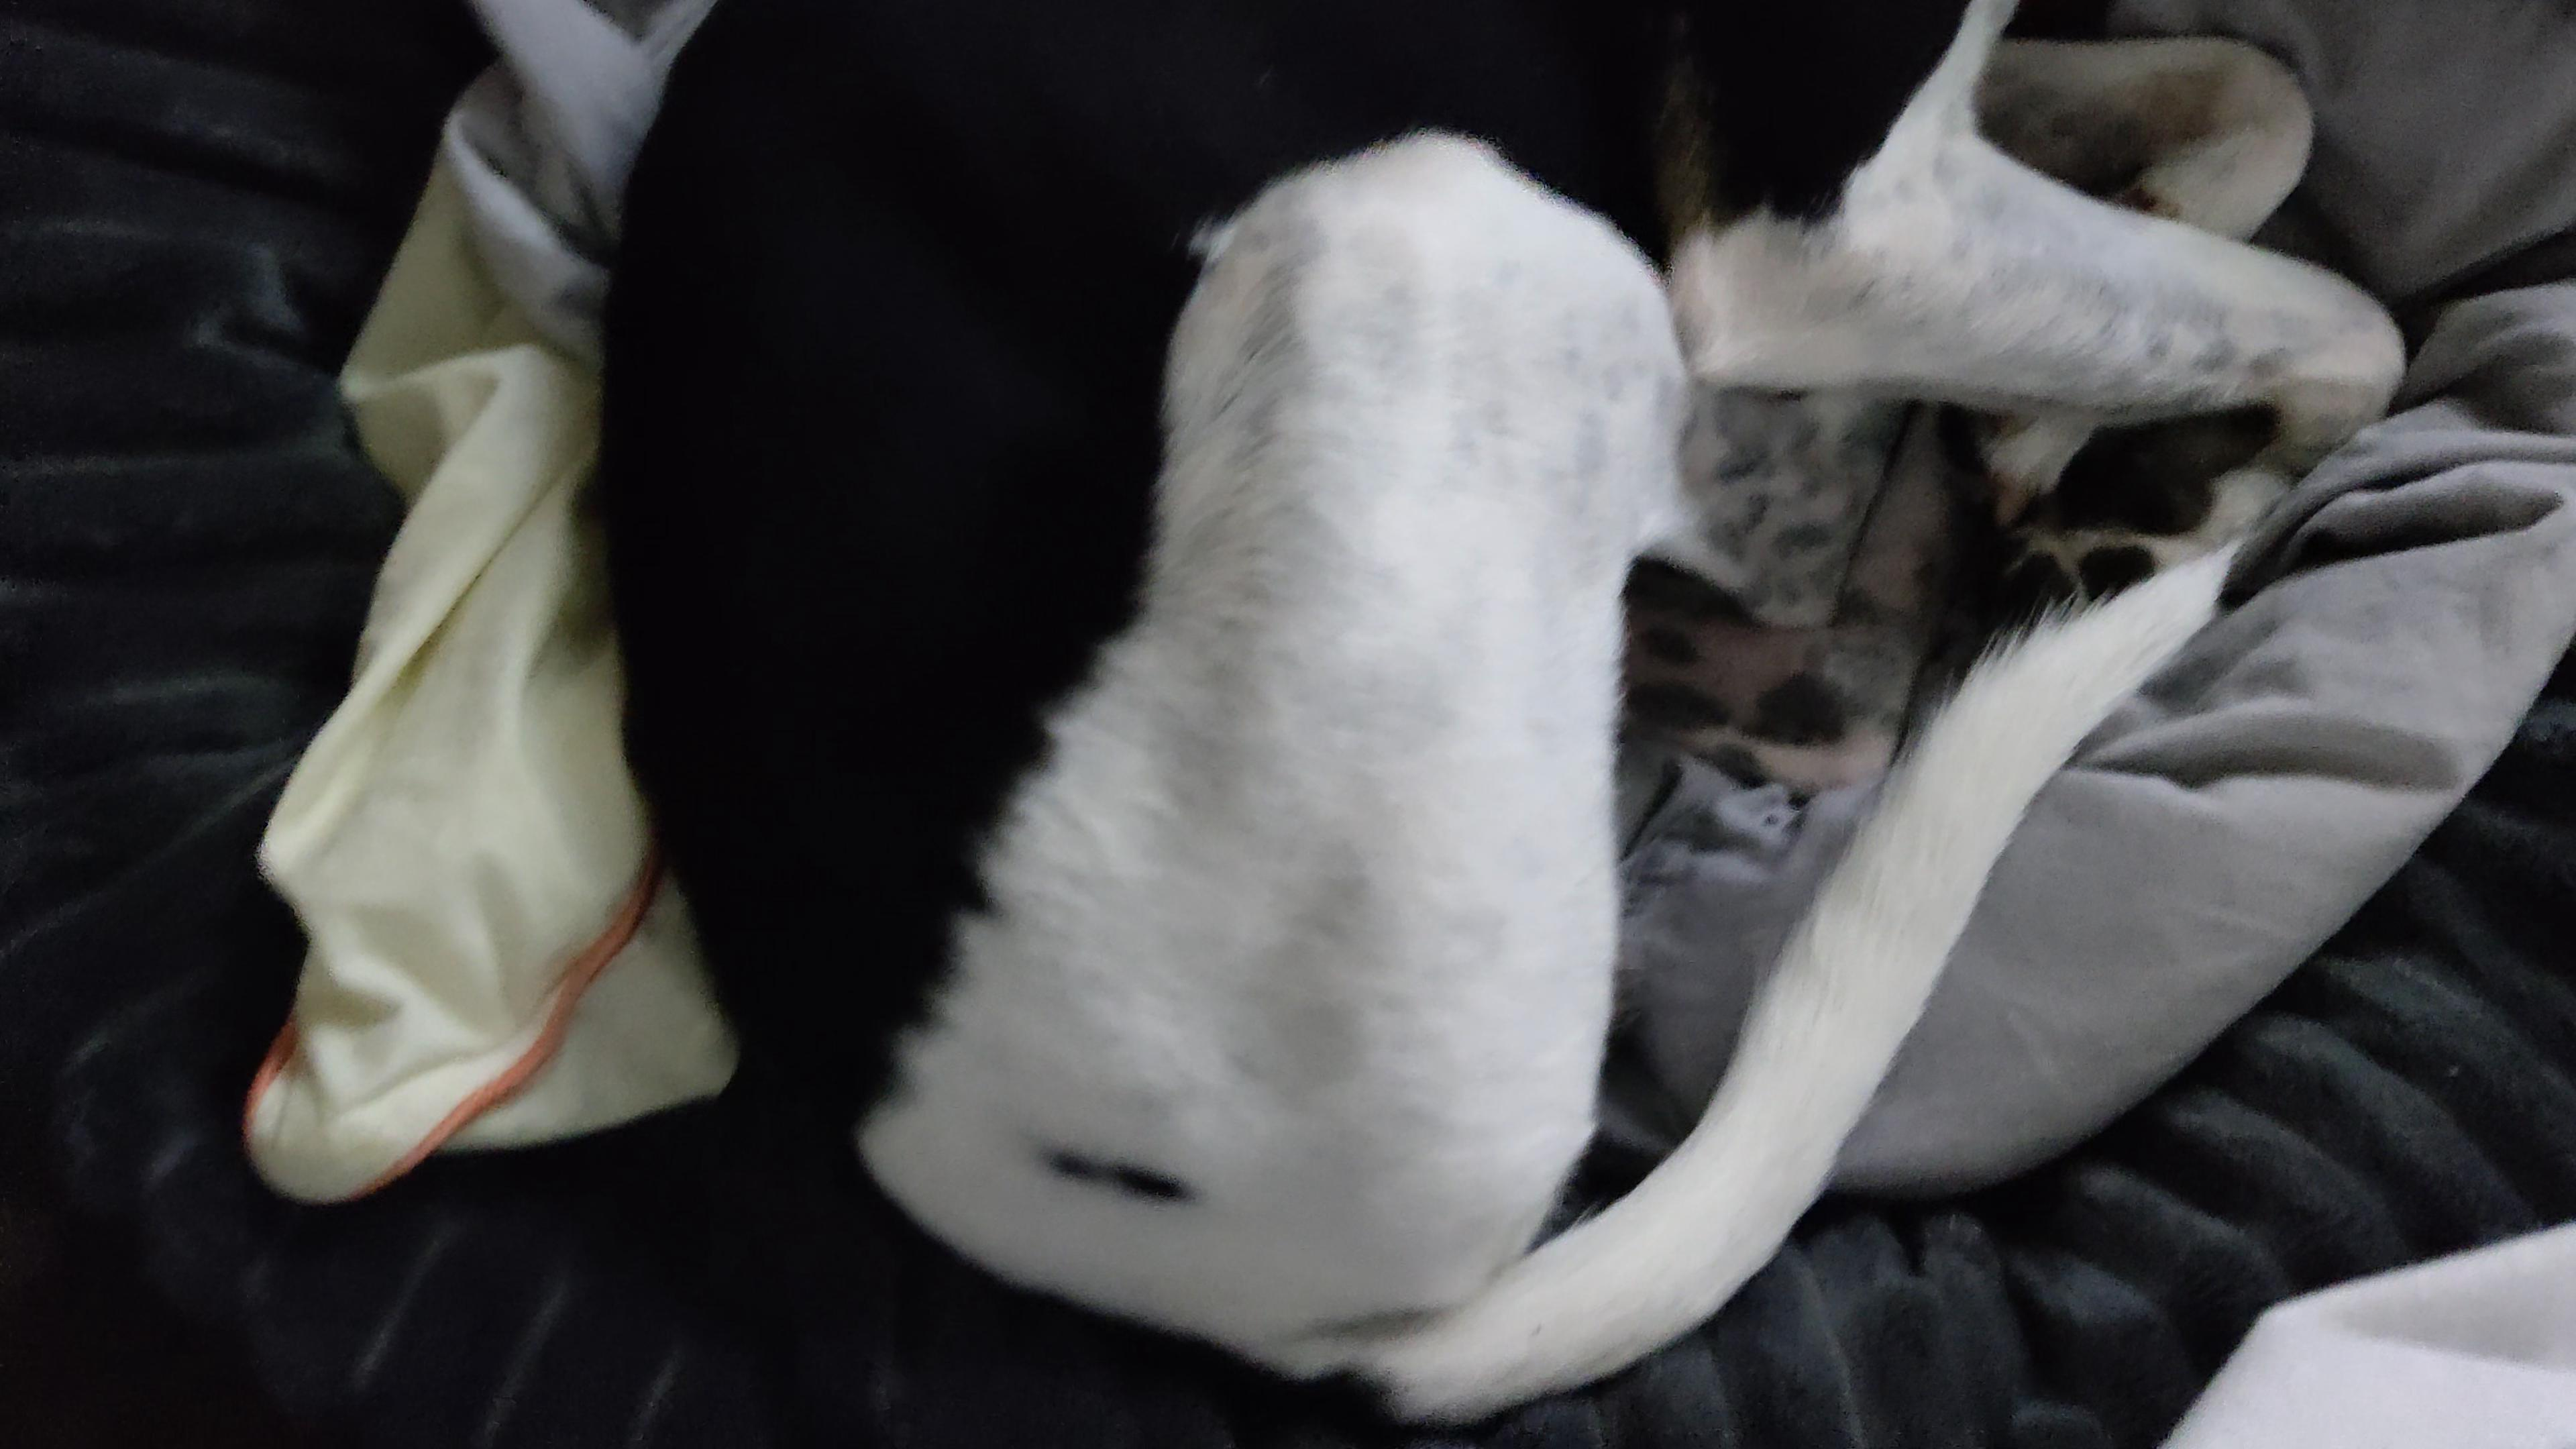Dog: (575, 0, 2411, 1378)
